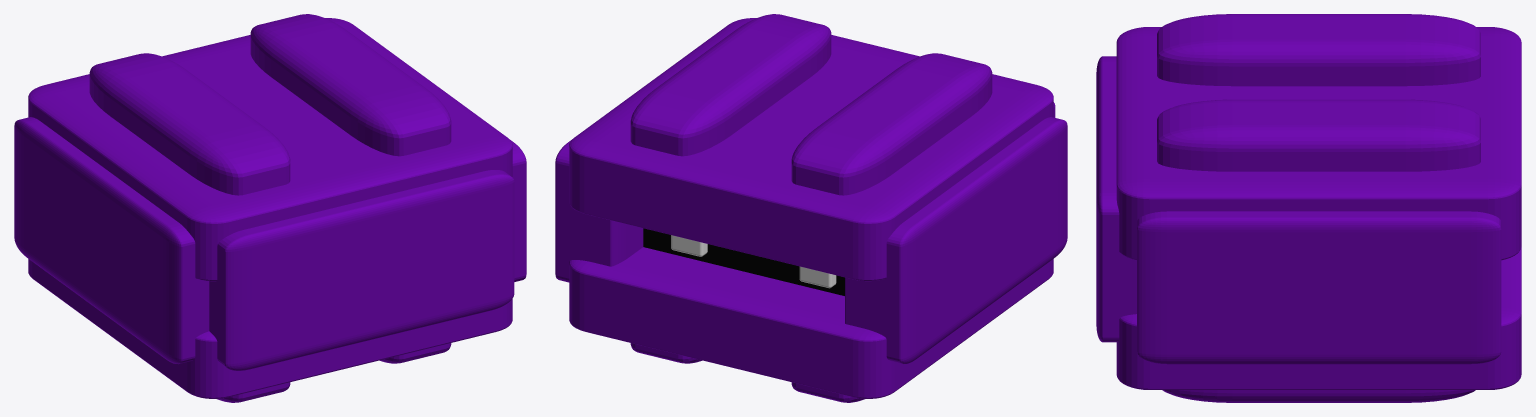
The model's file is Shellmie.glb.
3 renders of one model, left to right at view 1: azimuth 30°, elevation 25°; view 2: azimuth 150°, elevation 25°; view 3: azimuth 270°, elevation 25°, orthographic. The views are drawn at different scales.
Parts seen in each view (by area): view 1: Shellmie; view 2: Shellmie; view 3: Shellmie.
Part boxes in pixels (x1=…): Shellmie: x1=14, y1=14, x2=526, y2=402; Shellmie: x1=555, y1=14, x2=1067, y2=402; Shellmie: x1=1096, y1=14, x2=1521, y2=402.
Size of the model in its own units: 1.1 by 0.75 by 1.05.
